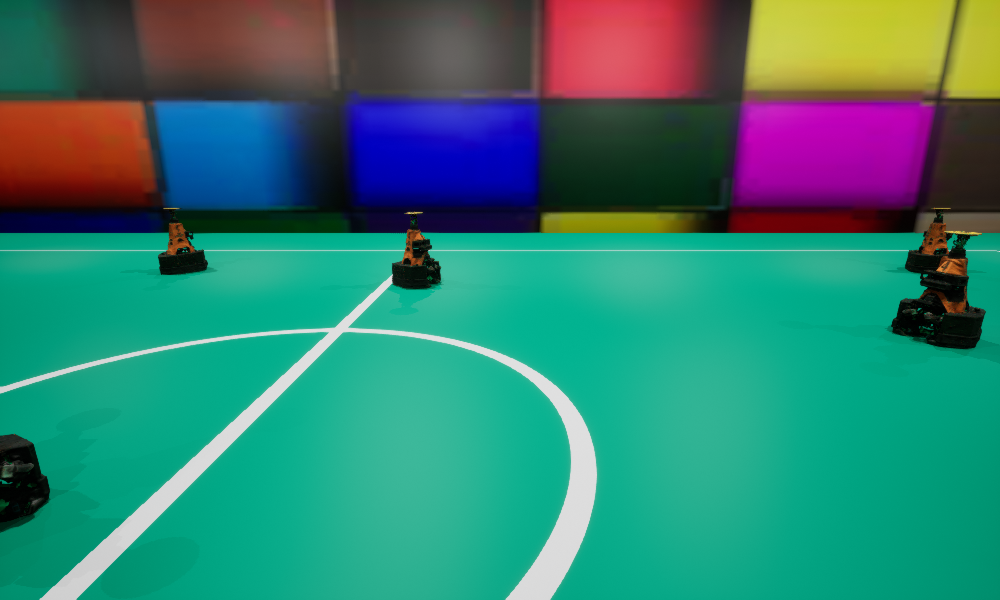0 orange robot TechUnited: (891, 231, 985, 348), (0, 434, 49, 521), (392, 212, 440, 288), (158, 208, 207, 274), (905, 208, 952, 273)
